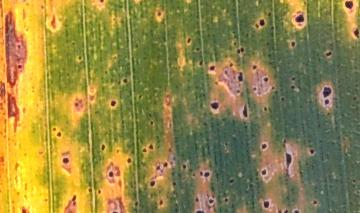tarspot: (292, 10, 306, 28), (283, 150, 293, 172), (320, 84, 333, 98), (209, 100, 220, 113), (241, 102, 249, 119), (343, 1, 356, 11), (257, 15, 266, 29), (206, 63, 217, 74), (352, 26, 360, 40), (236, 70, 244, 84), (109, 98, 119, 109), (107, 168, 115, 181), (70, 194, 78, 207), (323, 49, 333, 59), (120, 75, 130, 85), (60, 156, 71, 165), (281, 137, 289, 149), (306, 147, 316, 156), (258, 141, 268, 150), (154, 9, 163, 19), (184, 36, 193, 46), (147, 178, 157, 187), (15, 61, 24, 71), (262, 199, 270, 209), (55, 129, 63, 139), (192, 207, 205, 213), (157, 196, 164, 207), (288, 39, 296, 48), (322, 98, 331, 106), (289, 74, 297, 83), (207, 197, 215, 206), (146, 143, 155, 151), (125, 156, 134, 164), (75, 54, 84, 62), (99, 142, 106, 152), (260, 167, 266, 178), (311, 198, 319, 206), (261, 75, 269, 83), (265, 9, 273, 17), (72, 101, 80, 109), (288, 83, 297, 90), (250, 63, 257, 72), (240, 45, 246, 55), (278, 95, 286, 102), (197, 59, 204, 67), (15, 42, 22, 50), (253, 21, 259, 30), (203, 170, 209, 179), (86, 187, 93, 194), (350, 177, 357, 184), (194, 46, 201, 53), (291, 207, 299, 213), (155, 164, 161, 172), (235, 47, 240, 56), (227, 177, 234, 183), (198, 170, 204, 177), (193, 196, 200, 202), (141, 147, 147, 154), (171, 180, 177, 187), (96, 188, 102, 195), (235, 88, 241, 95), (250, 86, 257, 92), (109, 209, 119, 213), (181, 163, 187, 169), (97, 1, 106, 5), (115, 148, 121, 154), (269, 25, 275, 31), (51, 125, 56, 132), (228, 61, 233, 68), (163, 161, 168, 168), (223, 69, 228, 76), (283, 208, 289, 213), (223, 197, 228, 203), (149, 120, 154, 126), (262, 106, 267, 112), (269, 84, 275, 89), (276, 208, 281, 213), (272, 89, 278, 93), (231, 41, 236, 45)
